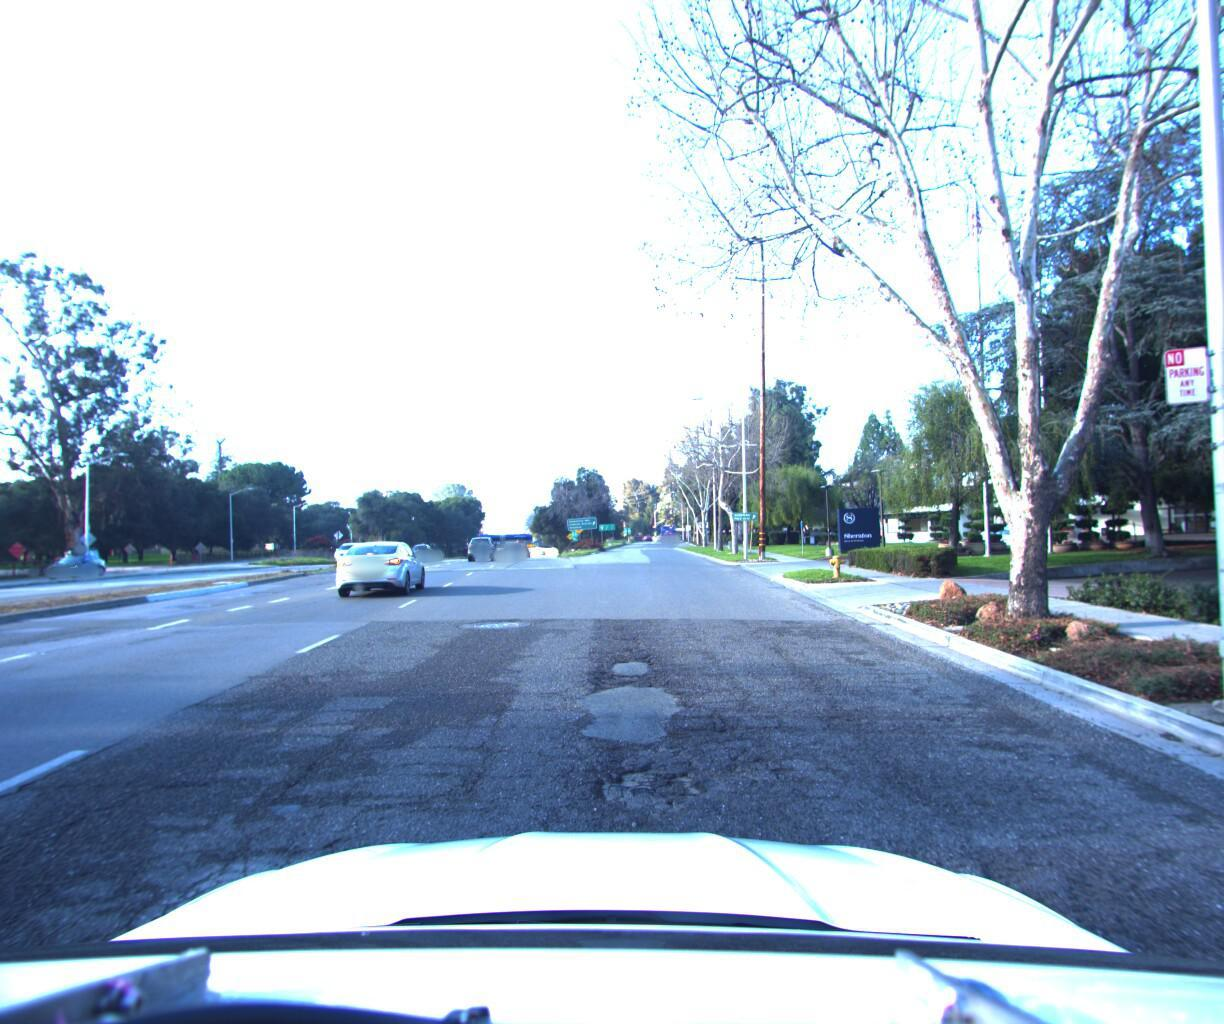car: (331, 535, 428, 598), (47, 552, 114, 579), (467, 531, 498, 558)
